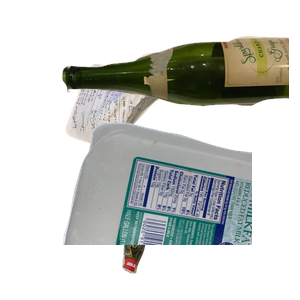glass: (60, 34, 300, 133)
paper: (63, 61, 242, 206)
plastic: (60, 120, 300, 300)
trash: (120, 131, 290, 300)
